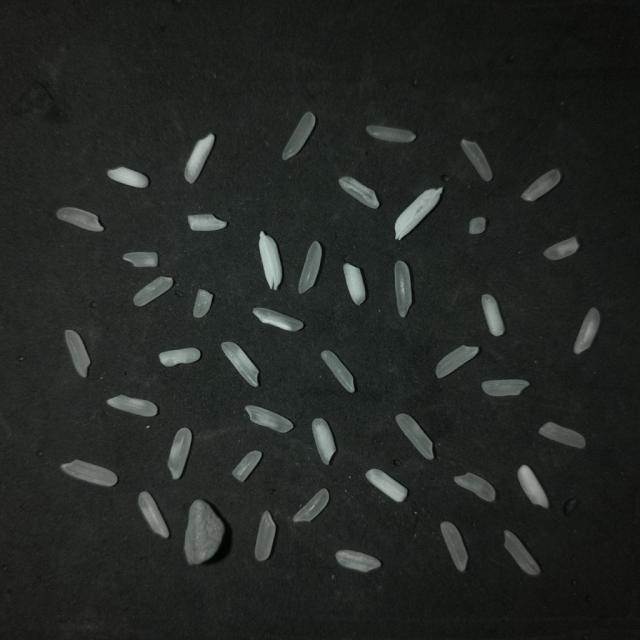broken: (231, 450, 260, 480), (193, 288, 212, 317), (123, 251, 157, 266), (468, 216, 485, 233)
chalky: (221, 341, 258, 385), (184, 133, 214, 182), (365, 468, 407, 501), (138, 491, 168, 537), (516, 464, 547, 507), (338, 176, 378, 207), (245, 405, 292, 431), (573, 307, 599, 353), (167, 427, 190, 478), (252, 307, 302, 330), (311, 418, 335, 464), (106, 394, 157, 415), (335, 549, 380, 571), (481, 294, 504, 335), (343, 263, 365, 304), (543, 237, 580, 261), (106, 166, 147, 187), (158, 347, 200, 365), (187, 213, 226, 230)
foreign: (183, 498, 224, 563), (394, 187, 441, 239), (258, 231, 281, 289)
whole: (395, 413, 433, 459), (282, 111, 316, 160), (503, 530, 539, 574), (60, 459, 117, 485), (321, 350, 354, 392), (435, 345, 478, 377), (440, 521, 467, 570), (460, 138, 491, 180), (520, 168, 560, 200), (453, 471, 495, 500), (538, 421, 584, 447), (64, 329, 89, 376), (298, 240, 320, 293), (133, 276, 172, 305), (56, 206, 103, 230), (293, 488, 328, 520), (254, 510, 275, 560), (394, 260, 411, 316), (365, 125, 415, 142), (481, 378, 528, 395)
